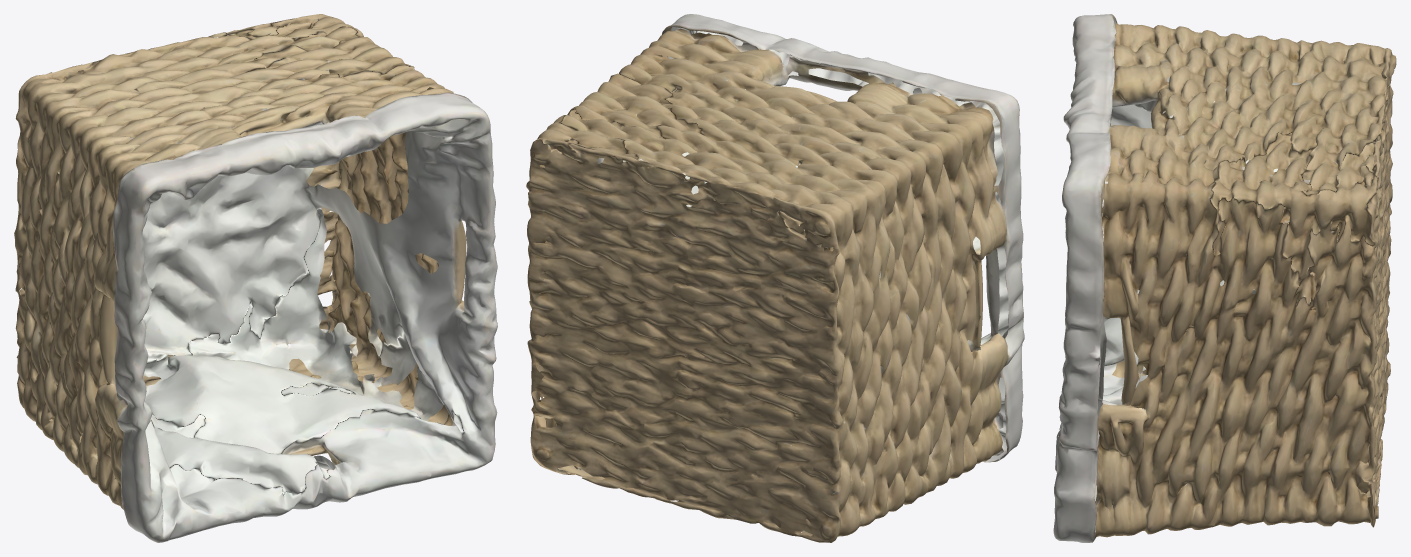
Rendered from trellis2.glb.
The picture shows the model from 3 angles, left to right: view 1: azimuth 30°, elevation 25°; view 2: azimuth 150°, elevation 25°; view 3: azimuth 270°, elevation 25°; orthographic projection.
Parts seen in each view (by area): view 1: world; view 2: world; view 3: world.
Part boxes in pixels (bbox=[...]): world: bbox=[14, 14, 497, 542]; world: bbox=[526, 14, 1024, 542]; world: bbox=[1053, 14, 1396, 542].
Bounding box in the file's own units: 1 × 0.9699 × 0.7976.
Materials: 1 (1 with a texture image).
